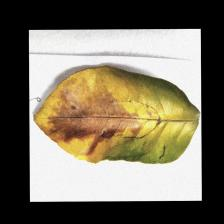black spot: (43, 78, 172, 163)
